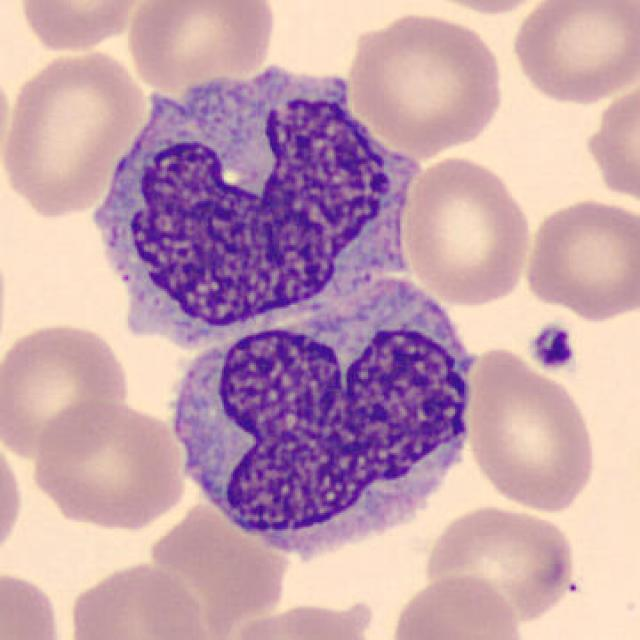Monocyte: (73, 57, 439, 370), (160, 277, 487, 576)
Platelets: (528, 321, 580, 374)
RBC: (0, 43, 149, 220), (342, 7, 508, 159), (460, 344, 601, 515), (28, 397, 188, 532), (398, 152, 535, 306), (422, 500, 582, 628), (0, 317, 133, 461), (519, 194, 638, 323), (507, 0, 638, 108), (123, 0, 279, 90), (64, 557, 215, 640), (386, 571, 526, 640), (14, 0, 151, 53), (220, 599, 377, 640), (0, 566, 68, 640), (0, 428, 27, 572), (411, 0, 564, 16), (0, 56, 14, 187)
